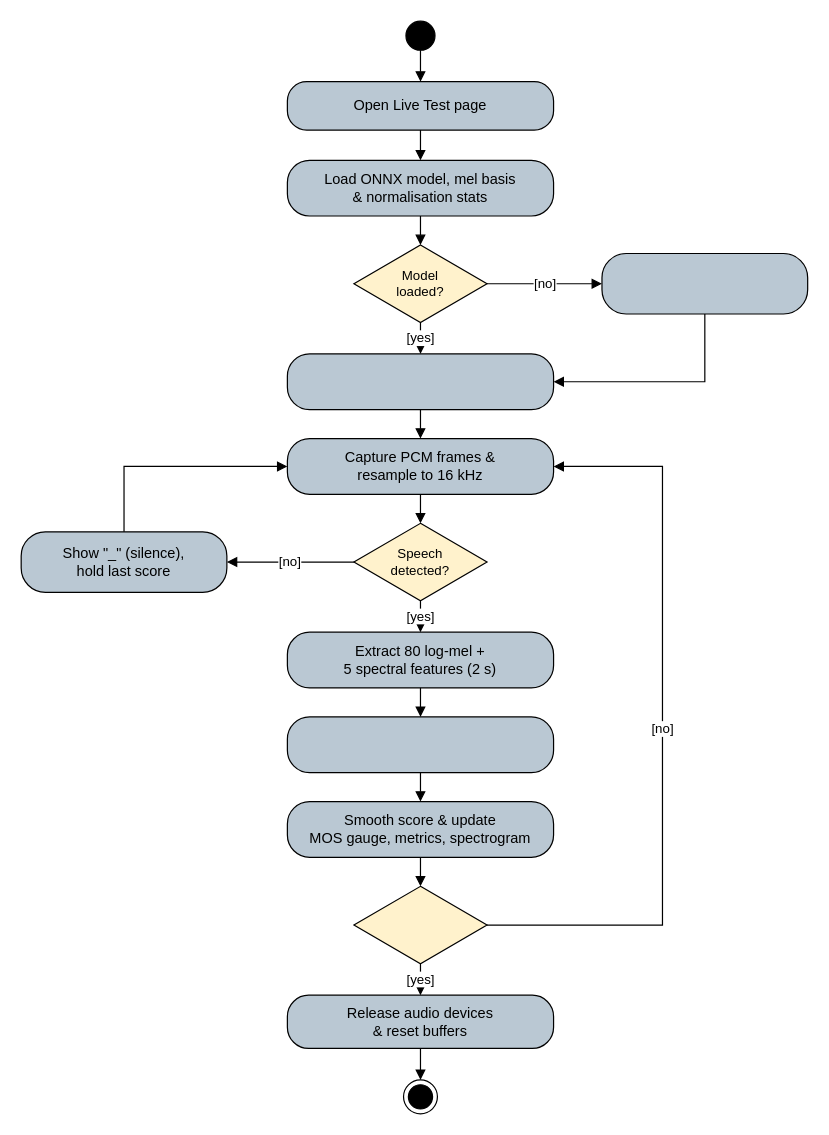
Some shapes in this 829 by 1135 pixel diagram are drawn without their labels. The box of each missing label's shape, as (x1, y1, x2, y2) in pixels:
Run ONNX inference (MOS, voice prob, 5 diagnostics): (286, 716, 554, 773)
Select source: mic / demo voice / PC audio: (286, 353, 554, 410)
Stop pressed?: (353, 885, 487, 964)
Use heuristic DSP engine (fallback): (601, 252, 808, 314)
